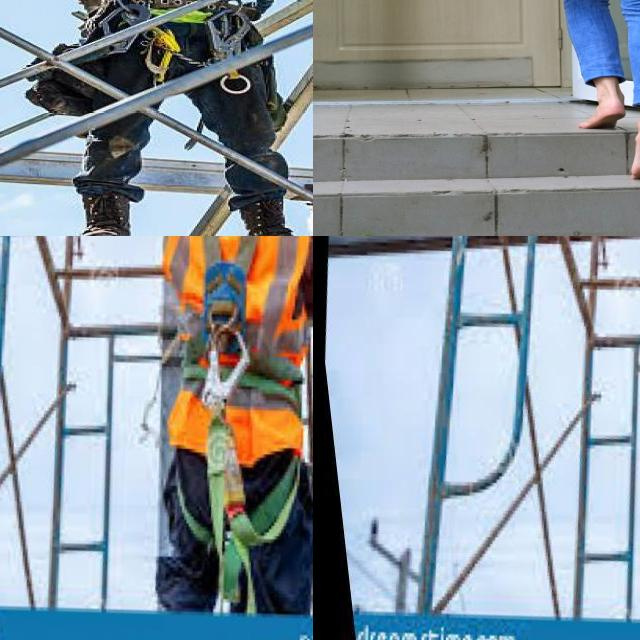Barefoots: (578, 102, 626, 128), (630, 121, 640, 179)
Harness: (176, 236, 304, 615)
